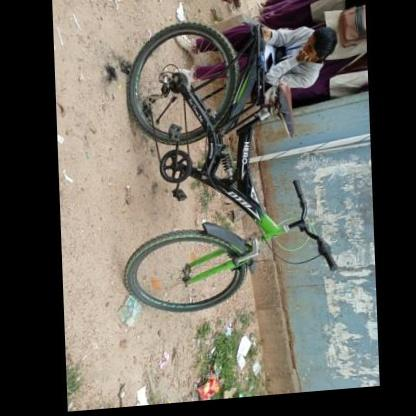Bicycle: (110, 17, 341, 346)
